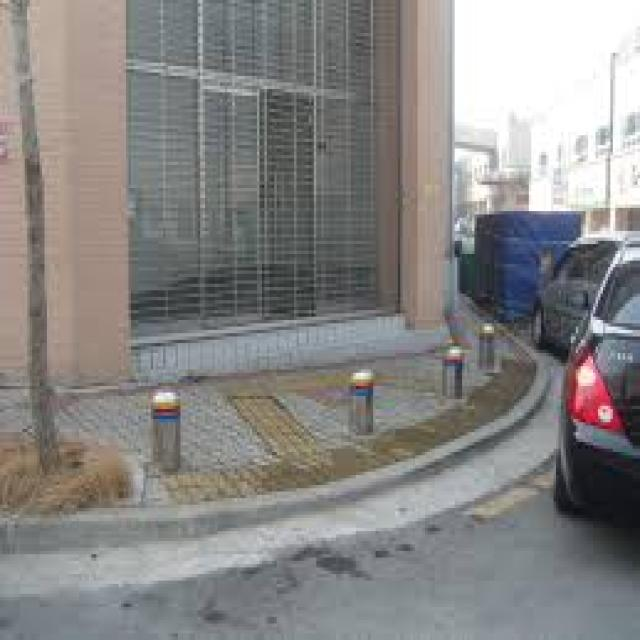bollard: (144, 384, 187, 472), (345, 361, 378, 446), (437, 343, 469, 407), (477, 325, 501, 383)
